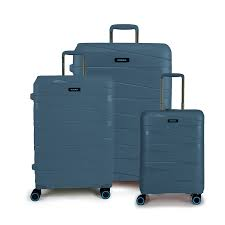suitcase: (68, 22, 174, 186), (26, 52, 118, 202), (134, 72, 205, 205)
